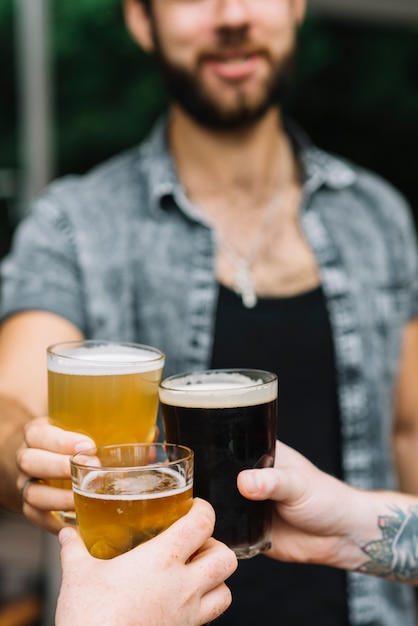alcohol: (151, 365, 292, 559), (41, 337, 164, 530), (70, 440, 195, 570)
